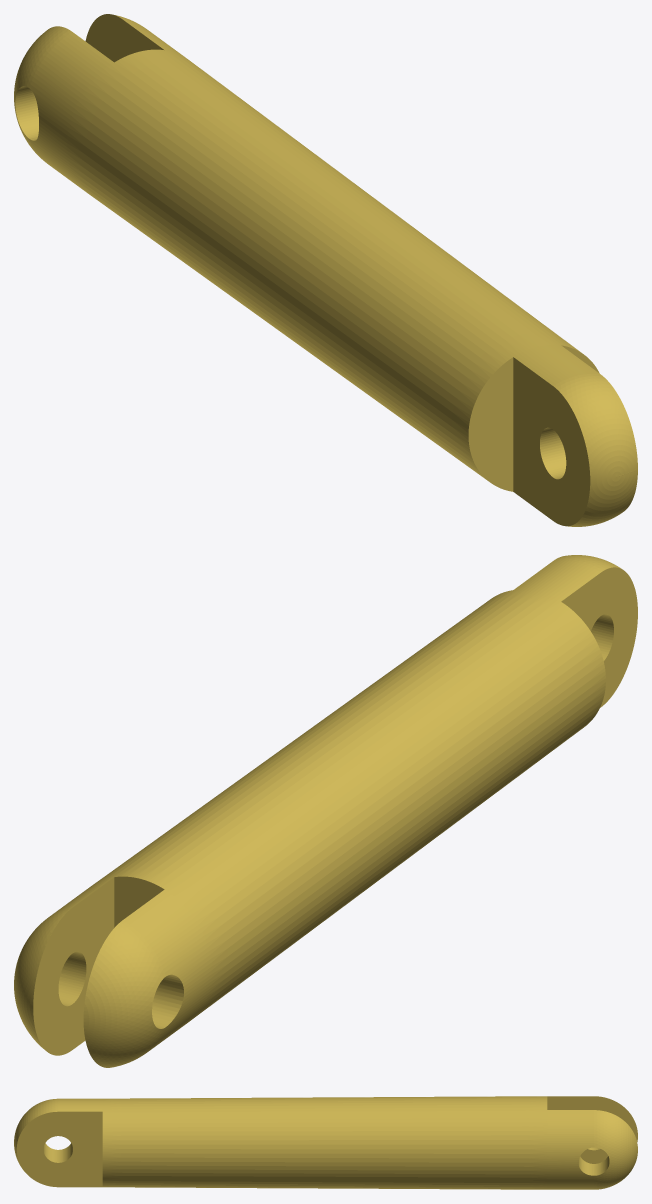
3 renders of one model, top to bottom at view 1: azimuth 30°, elevation 25°; view 2: azimuth 150°, elevation 25°; view 3: azimuth 270°, elevation 25°, orthographic. The views are drawn at different scales.
Visible parts, largest first — view 1: node; view 2: node; view 3: node.
Part boxes in pixels (left/top/right/bottom): node: left=14, top=14, right=637, bottom=526; node: left=14, top=555, right=637, bottom=1067; node: left=14, top=1096, right=637, bottom=1189.
Bounding box in the file's own units: 0.0631 × 0.0631 × 0.421.
